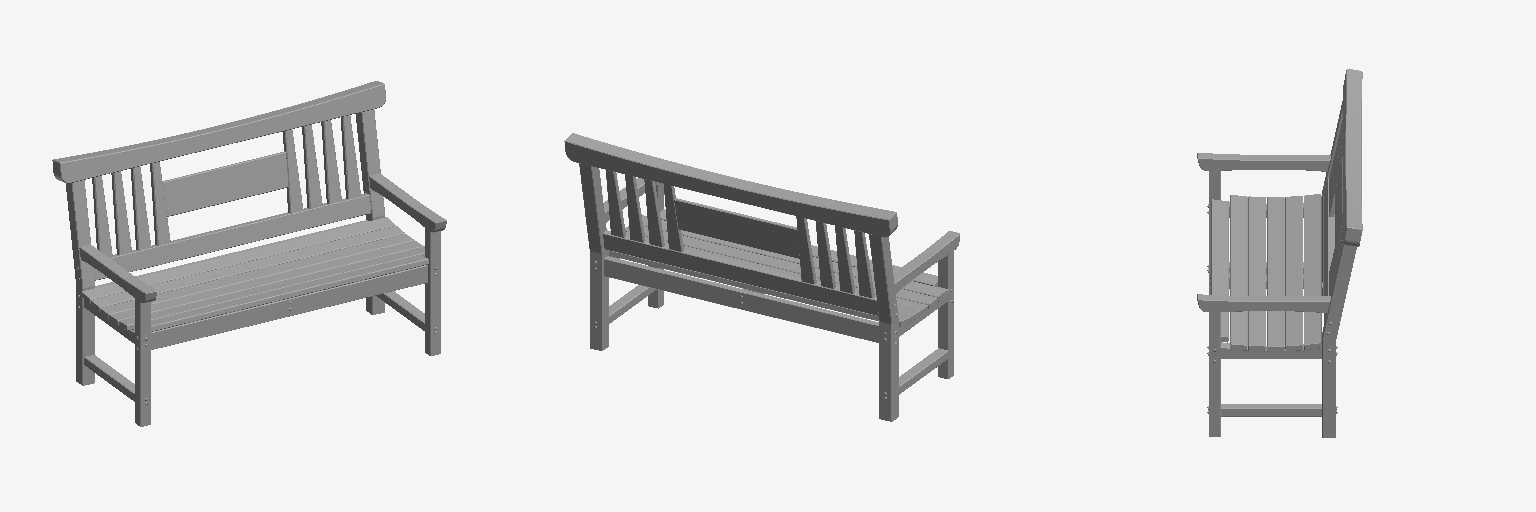
File: wood-bench.obj
3 renders of one model, left to right at view 1: azimuth 30°, elevation 25°; view 2: azimuth 150°, elevation 25°; view 3: azimuth 270°, elevation 25°, orthographic.
Visible parts, largest first — view 1: Bench; view 2: Bench; view 3: Bench.
Part boxes in pixels (x1,y1,x2,y2): Bench: (52,81,446,426); Bench: (564,133,959,421); Bench: (1197,69,1362,437).
Bounding box in the file's own units: 261 × 166 × 115.